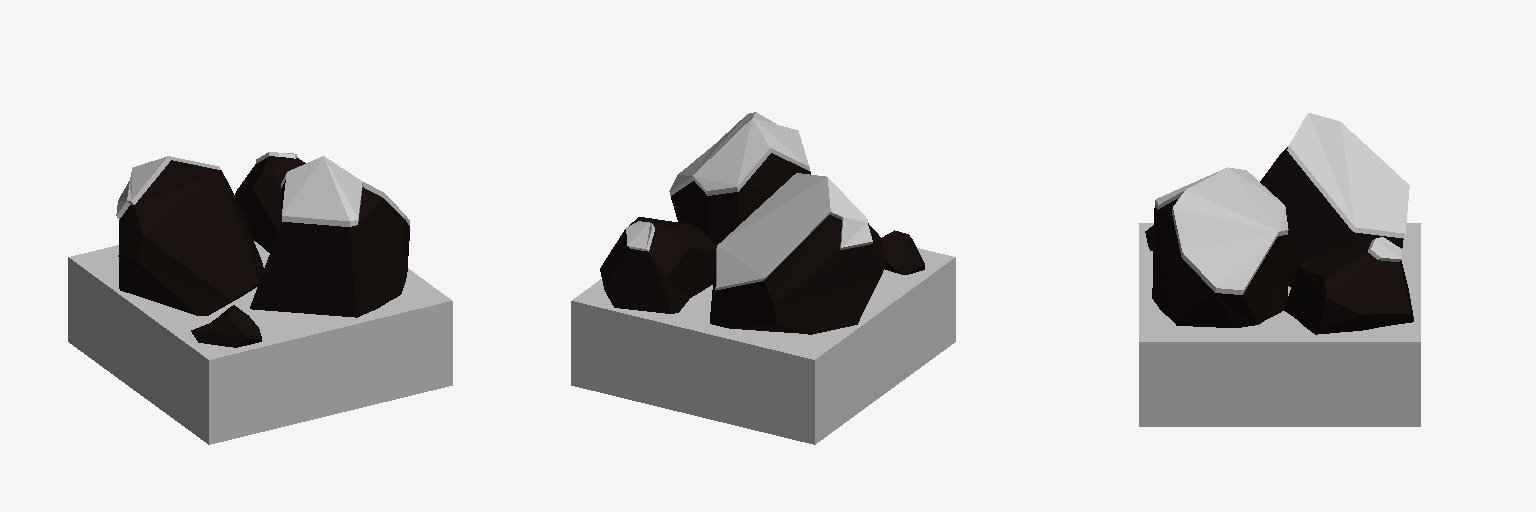
The model's file is Tile_Rock_1.obj.
The picture shows the model from 3 angles: view 1: azimuth 30°, elevation 25°; view 2: azimuth 150°, elevation 25°; view 3: azimuth 270°, elevation 25°; orthographic projection.
Visible parts, largest first — view 1: Cube, Cube.007_Cube.008, Cube.003, Cube.006, Cube.008_Cube.009; view 2: Cube, Cube.003, Cube.007_Cube.008, Cube.006, Cube.008_Cube.009; view 3: Cube, Cube.007_Cube.008, Cube.003, Cube.006.
Boxes of the visible parts, <box> form: Cube: <box>68,241,452,444</box>; Cube.007_Cube.008: <box>250,156,409,317</box>; Cube.003: <box>116,156,263,315</box>; Cube.006: <box>235,152,305,252</box>; Cube.008_Cube.009: <box>191,305,261,347</box>; Cube: <box>571,248,955,444</box>; Cube.003: <box>710,173,886,334</box>; Cube.007_Cube.008: <box>669,112,810,245</box>; Cube.006: <box>600,217,716,313</box>; Cube.008_Cube.009: <box>881,230,924,274</box>; Cube: <box>1139,223,1420,426</box>; Cube.007_Cube.008: <box>1152,167,1288,327</box>; Cube.003: <box>1260,113,1409,286</box>; Cube.006: <box>1284,237,1413,334</box>.
Size of the model in its own units: 3.11 by 2.57 by 3.